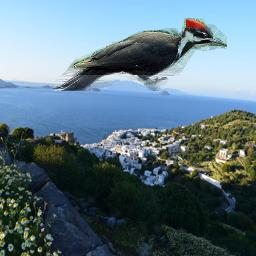Woodpecker: (53, 18, 227, 91)
